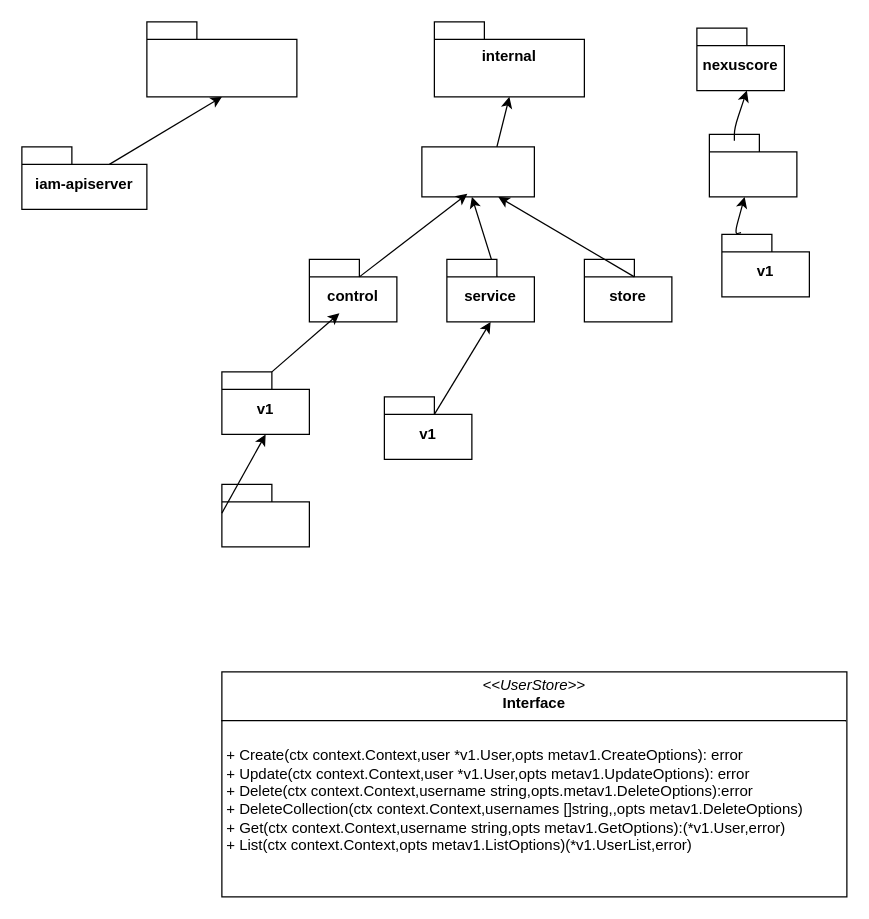
This 869x919 diagram has some shape labels left out. Here are the shapes that lost their labels. From the top down, the centre of each, then its label:
At pixel 221 59: "cmd".
At pixel 477 171: "apiserver".
At pixel 752 165: "api".
At pixel 265 515: "user".
